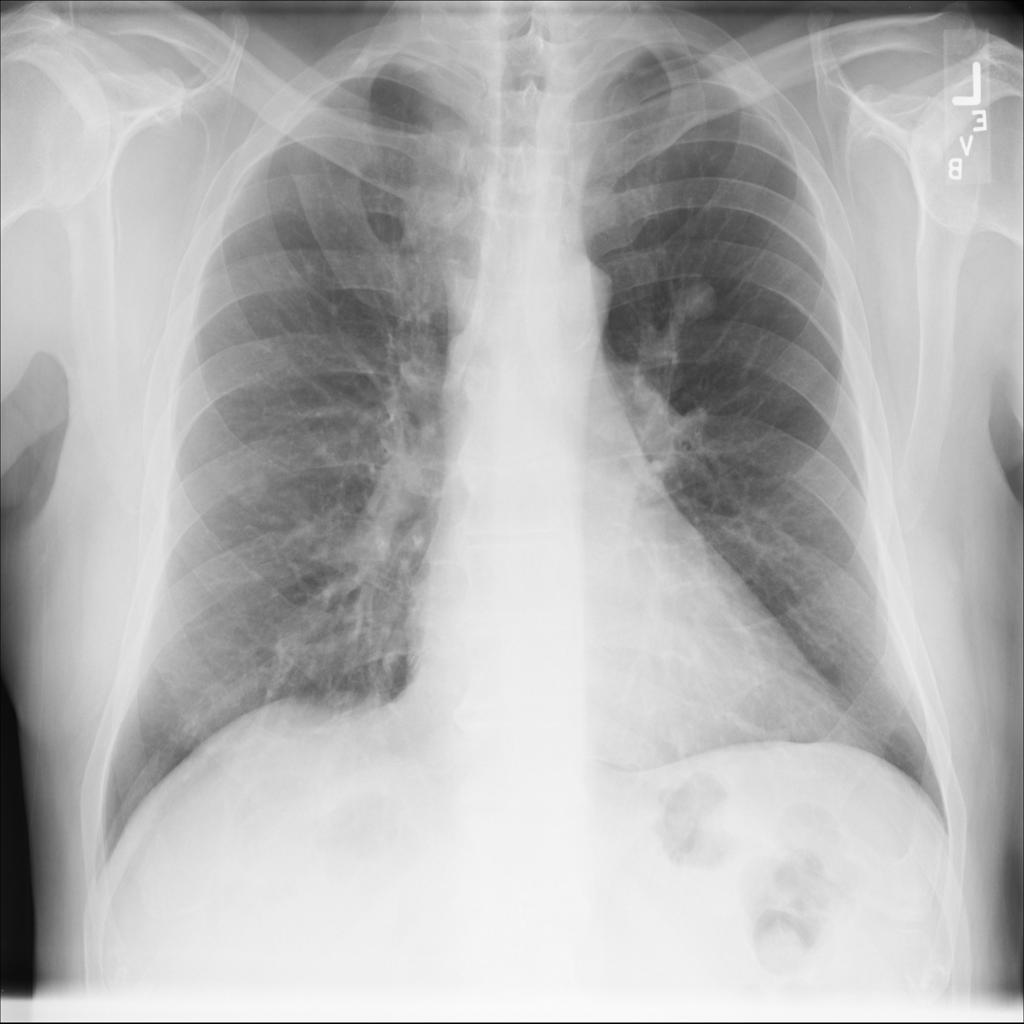nodule: (664, 260, 735, 334)
